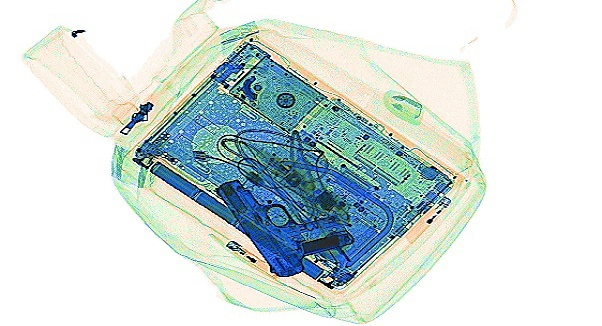lighter: (402, 193, 453, 243), (222, 239, 284, 280)
